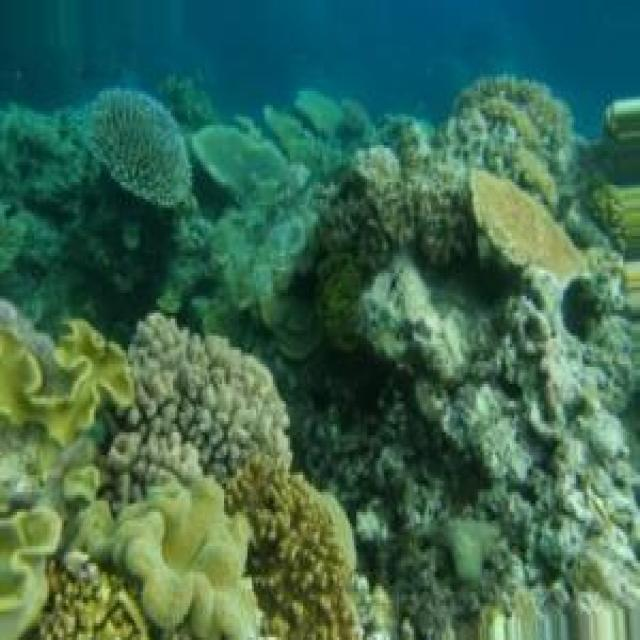healthy coral: (128, 313, 359, 638), (0, 321, 132, 640), (112, 480, 260, 638), (445, 75, 575, 209), (472, 172, 584, 279), (91, 92, 191, 208), (39, 550, 148, 638)
